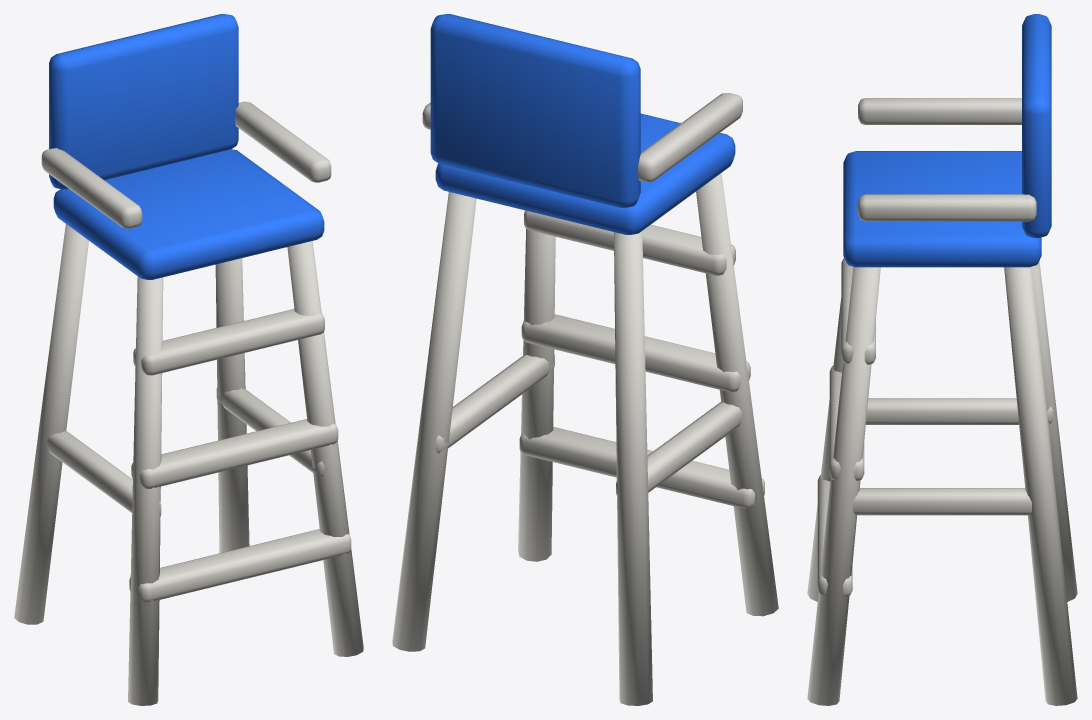
File: refchair.glb
The picture shows the model from 3 angles, left to right: view 1: azimuth 30°, elevation 25°; view 2: azimuth 150°, elevation 25°; view 3: azimuth 270°, elevation 25°; orthographic projection. The views are drawn at different scales.
Visible parts, largest first — view 1: RefChair; view 2: RefChair; view 3: RefChair.
Part boxes in pixels (x1,y1,x2,y2): RefChair: (14, 14, 363, 705); RefChair: (392, 14, 778, 705); RefChair: (807, 14, 1077, 705).
Bounding box in the file's own units: 1.12 × 2.64 × 1.09.
